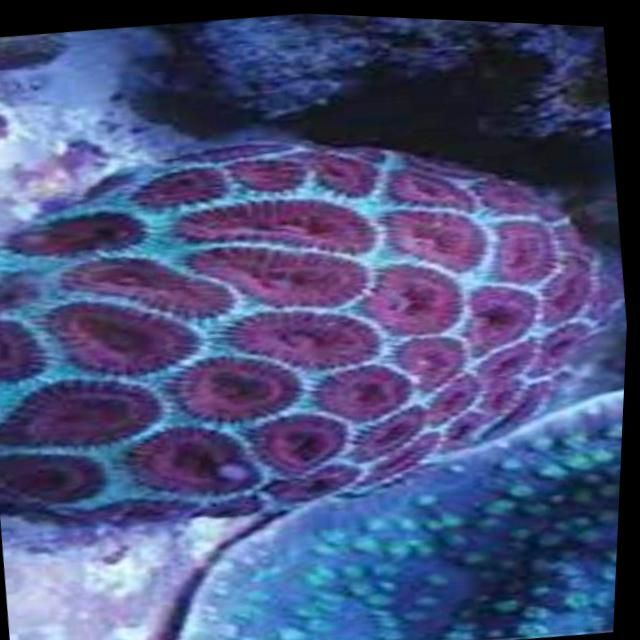Healthy Coral: (0, 74, 636, 565)
